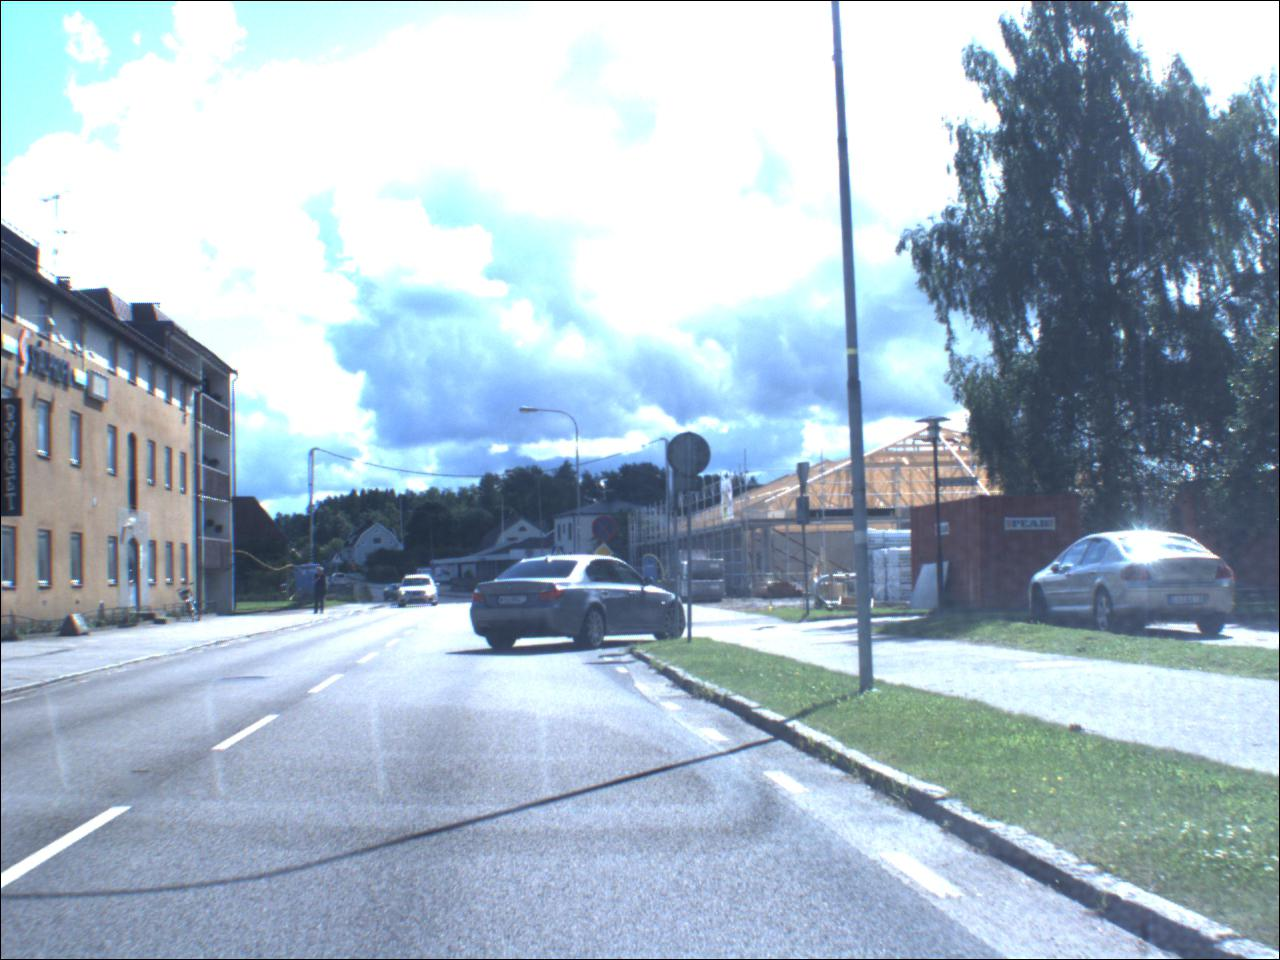NO_STOPPING_NO_STANDING: (594, 516, 620, 544)
PEDESTRIAN_CROSSING: (332, 553, 346, 568), (553, 548, 568, 561)
PRIORITY_ROAD: (596, 544, 617, 563)
